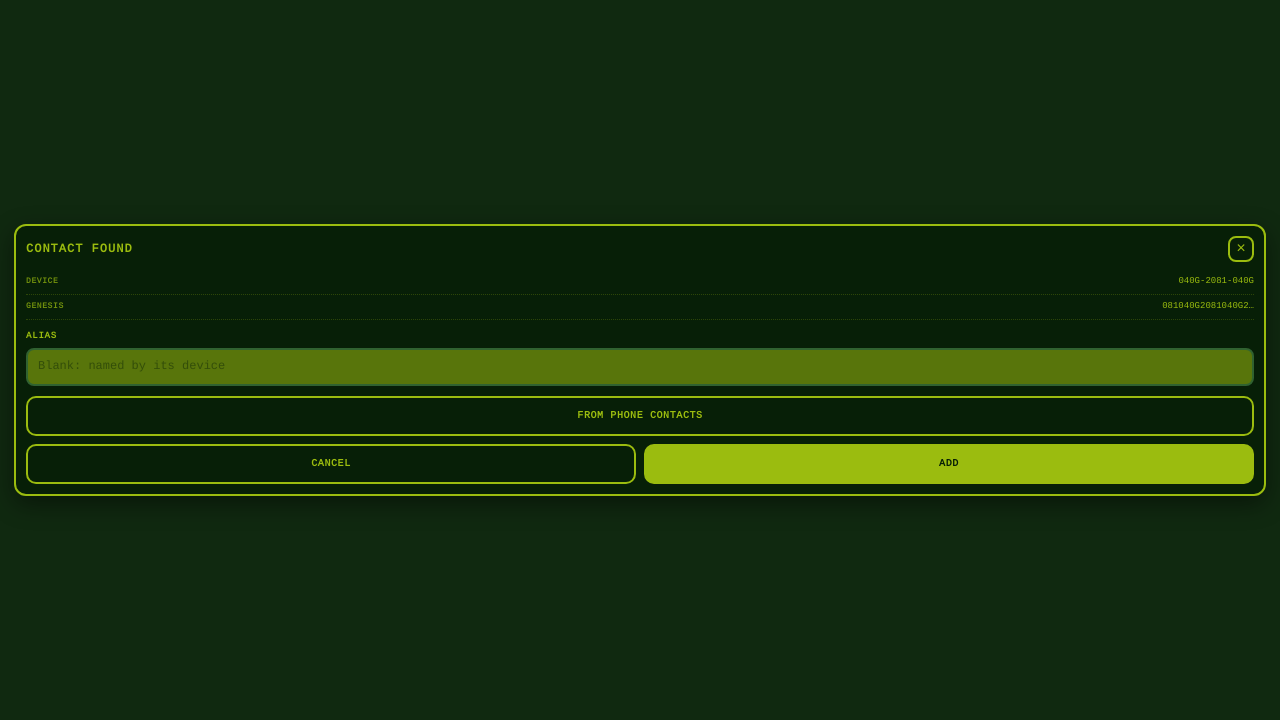
Test: QRCodeScannerPanel › adds the card Rust read and names the contact as Rust stored it
What coordinates should you click on to do the following:
click the button "Add"
I would click on:
 (949, 464)
Its box is [644,444,1254,484].
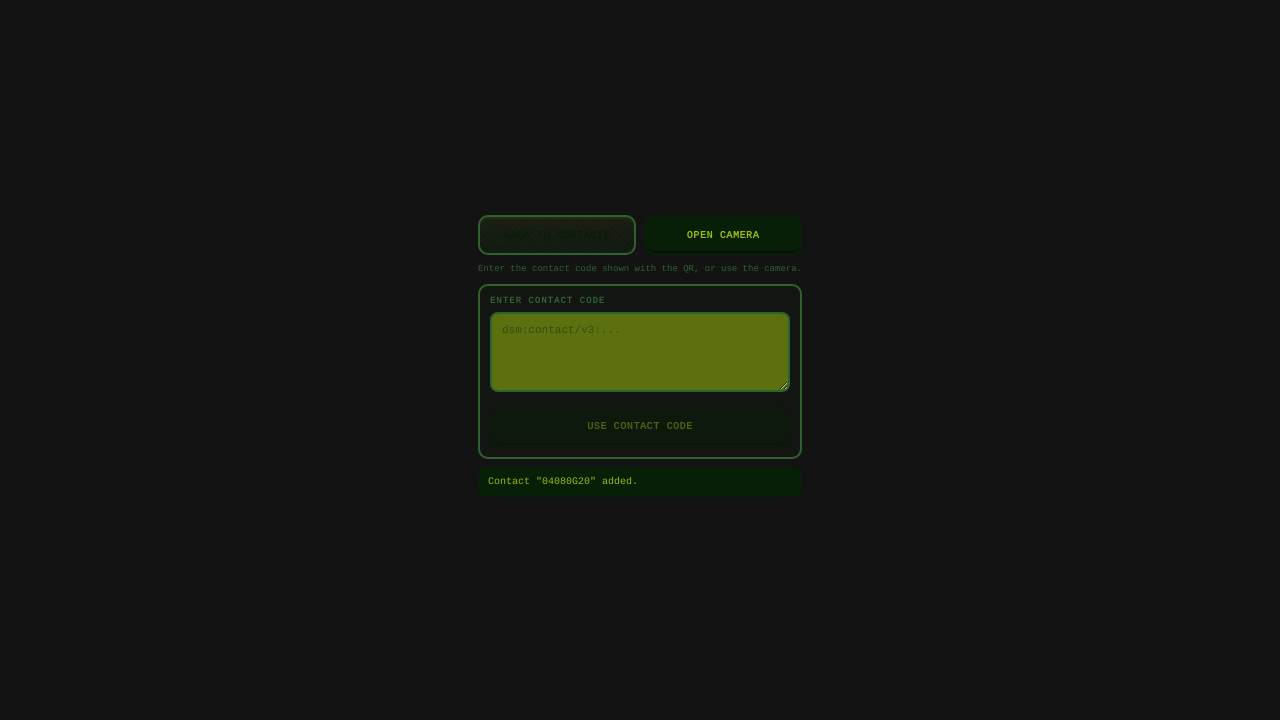
Result: the text "Contact \"04080G20\" added." is shown at [488,475,638,489]
